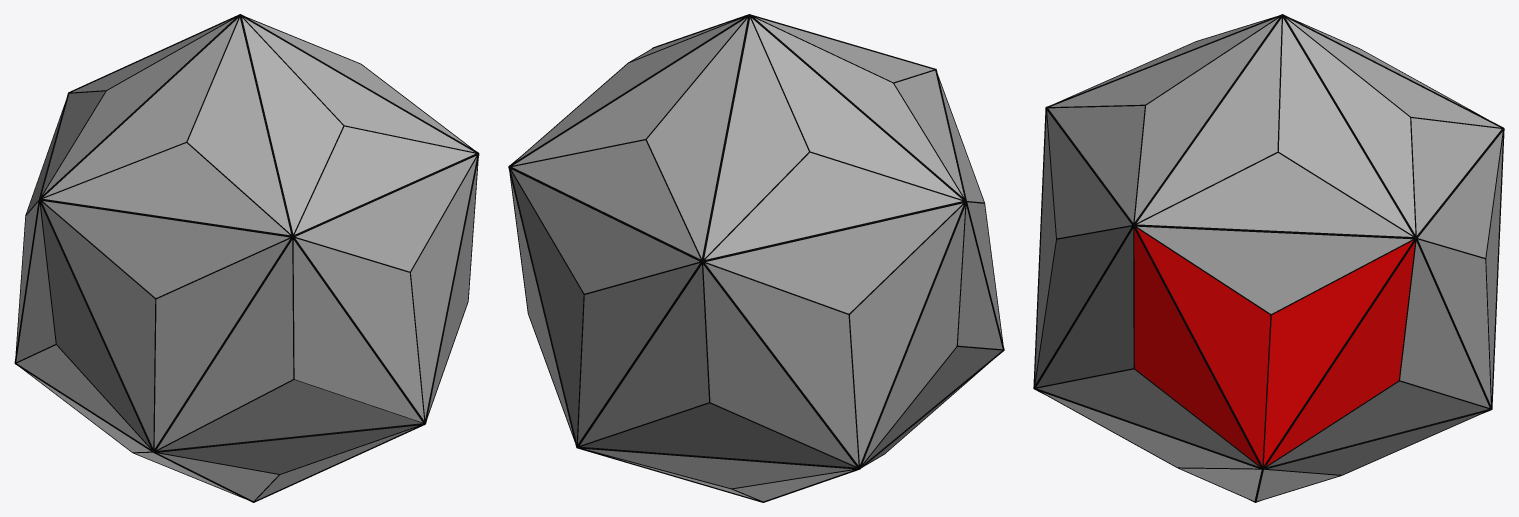
The model's file is TriakisIcosahedron4.glb.
The picture shows the model from 3 angles, left to right: view 1: azimuth 30°, elevation 25°; view 2: azimuth 150°, elevation 25°; view 3: azimuth 270°, elevation 25°; orthographic projection. The views are drawn at different scales.
Size of the model in its own units: 6.18 by 6.9 by 6.03.
